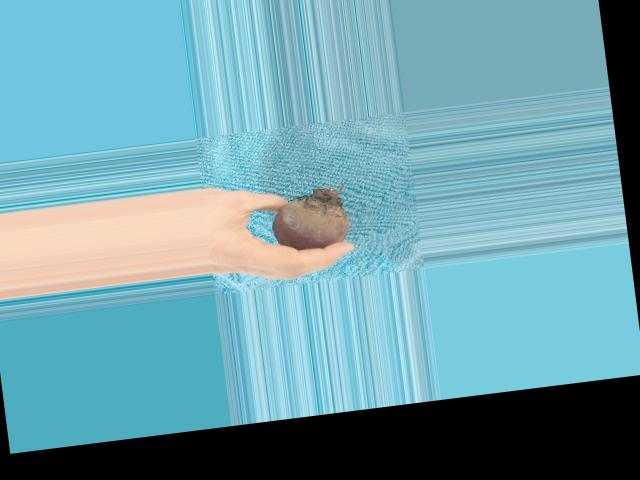beet: (269, 183, 352, 253)
